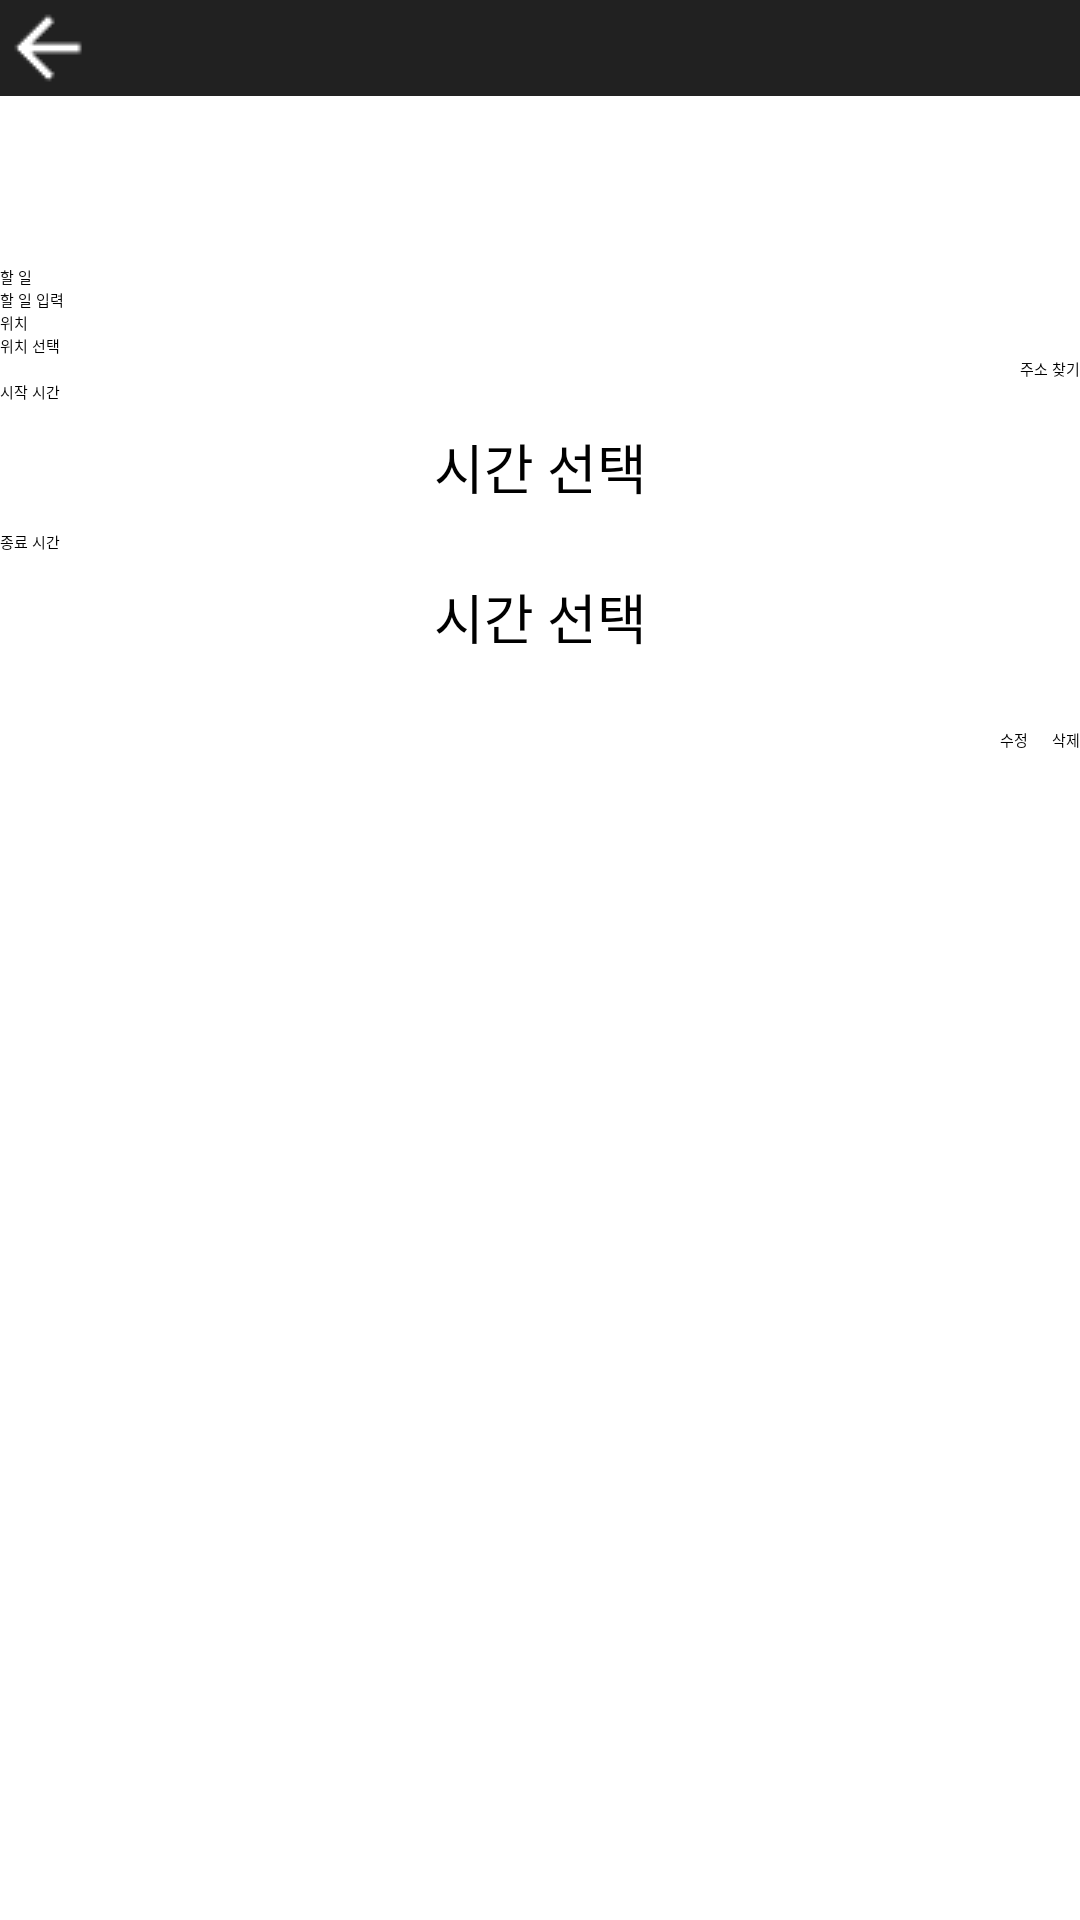

Icon click points for this 1080x1920 phone screenshot, format (x=x, y=y):
뒤로가기: (x=48, y=48)
